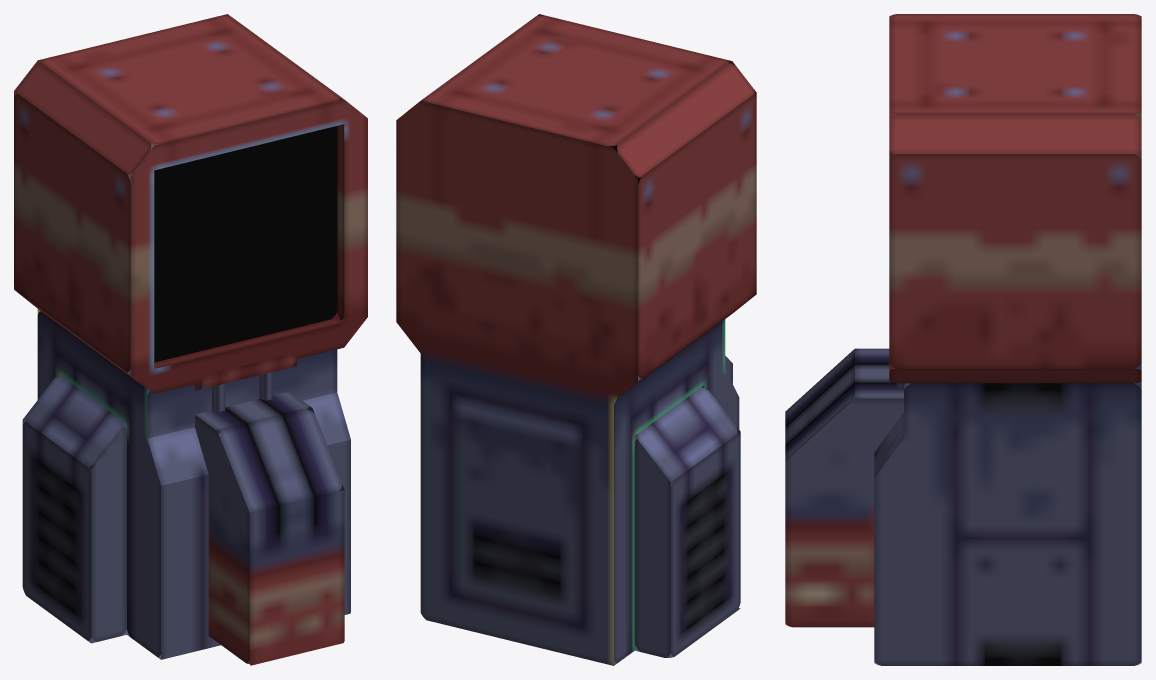
File: DispenserSwitch.fbx
3 renders of one model, left to right at view 1: azimuth 30°, elevation 25°; view 2: azimuth 150°, elevation 25°; view 3: azimuth 270°, elevation 25°, orthographic. The views are drawn at different scales.
Visible parts, largest first — view 1: Base, Handle; view 2: Base; view 3: Base.
Boxes of the visible parts, x1,y1,x2,y2 form: Base: (14, 14, 367, 665); Handle: (195, 354, 296, 433); Base: (396, 14, 756, 665); Base: (785, 14, 1141, 665).
Bounding box in the file's own units: 131 × 256 × 150.
